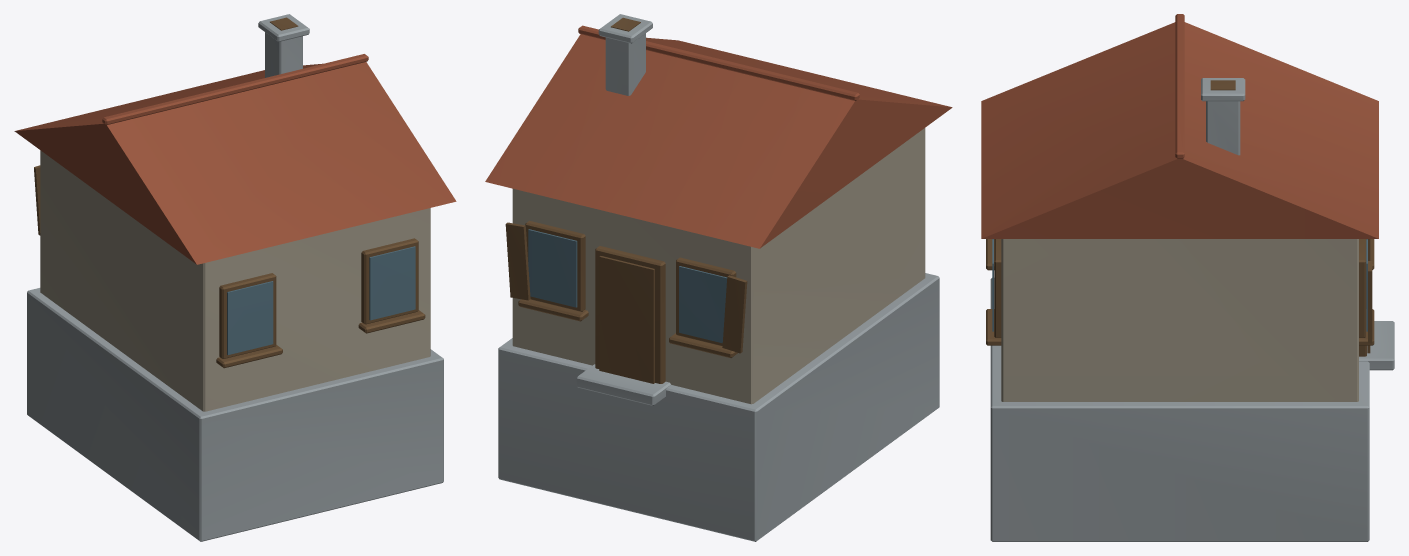
The model's file is house-old.glb.
3 renders of one model, left to right at view 1: azimuth 30°, elevation 25°; view 2: azimuth 150°, elevation 25°; view 3: azimuth 270°, elevation 25°, orthographic. The views are drawn at different scales.
Visible parts, largest first — view 1: stone foundation.001, pitched roof.001, house walls.001, window glass.004, chimney opening.001; view 2: stone foundation.001, pitched roof.001, house walls.001, chimney opening.001, window glass.004; view 3: pitched roof.001, house walls.001, stone foundation.001, chimney opening.001.
Part boxes in pixels (<box>): stone foundation.001: <box>27,14,443,541</box>; pitched roof.001: <box>14,54,456,264</box>; house walls.001: <box>40,150,430,411</box>; window glass.004: <box>227,246,415,354</box>; chimney opening.001: <box>34,17,425,368</box>; stone foundation.001: <box>498,14,939,541</box>; pitched roof.001: <box>485,25,952,248</box>; house walls.001: <box>512,128,925,404</box>; chimney opening.001: <box>505,17,747,383</box>; window glass.004: <box>528,229,727,343</box>; pitched roof.001: <box>981,14,1378,238</box>; house walls.001: <box>1001,239,1358,401</box>; stone foundation.001: <box>990,78,1394,541</box>; chimney opening.001: <box>986,80,1374,356</box>.
Bounding box in the file's own units: 4.63 × 6.62 × 5.78.
